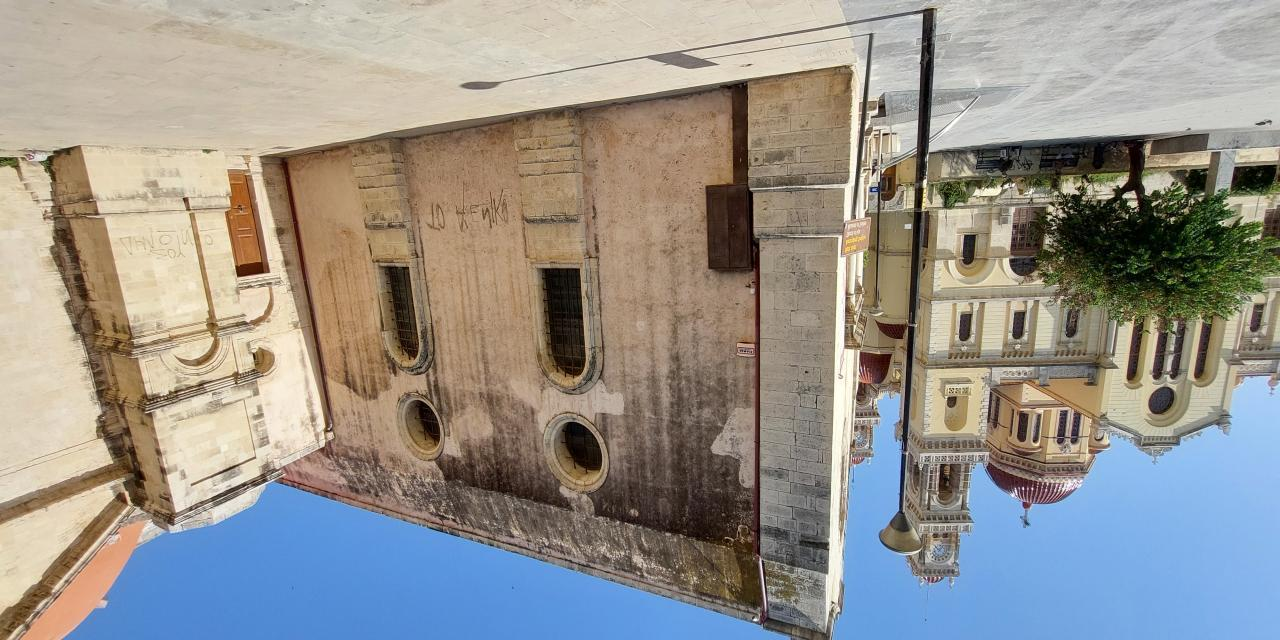Agia Aikaterini: (1, 66, 876, 640)
